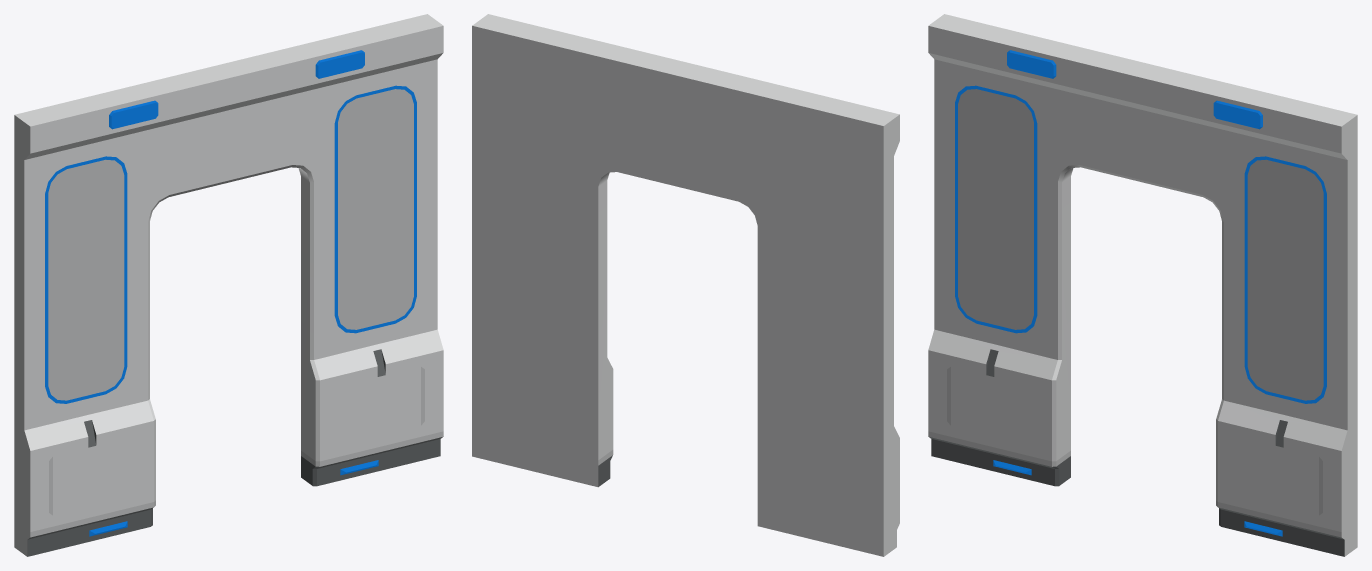
The model's file is Wall_type_A_019.glb.
The picture shows the model from 3 angles, left to right: view 1: azimuth 30°, elevation 25°; view 2: azimuth 150°, elevation 25°; view 3: azimuth 330°, elevation 25°; orthographic projection.
Visible parts, largest first — view 1: Wall_type_A_019; view 2: Wall_type_A_019; view 3: Wall_type_A_019.
Boxes of the visible parts, <box> form: Wall_type_A_019: <box>14,14,443,556</box>; Wall_type_A_019: <box>472,14,899,556</box>; Wall_type_A_019: <box>928,14,1357,556</box>.
Bounding box in the file's own units: 4 × 4 × 0.2898.
2 materials, 2 textured.
